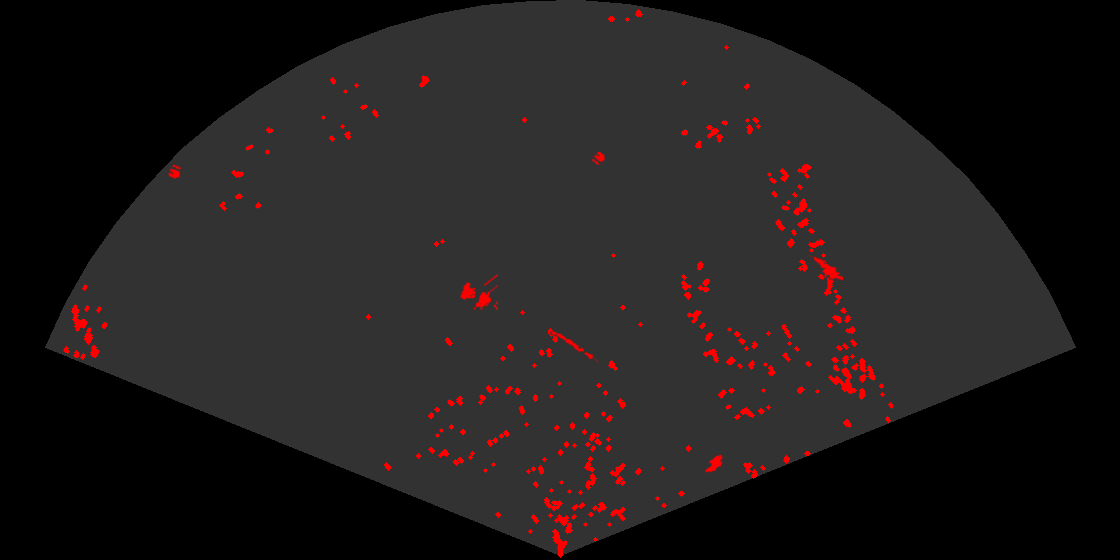AUV: (704, 453, 724, 474)
ball: (590, 150, 607, 167), (167, 163, 183, 180)
cage: (459, 272, 498, 312)
chain: (549, 330, 599, 362)
frogman: (808, 255, 843, 282)
